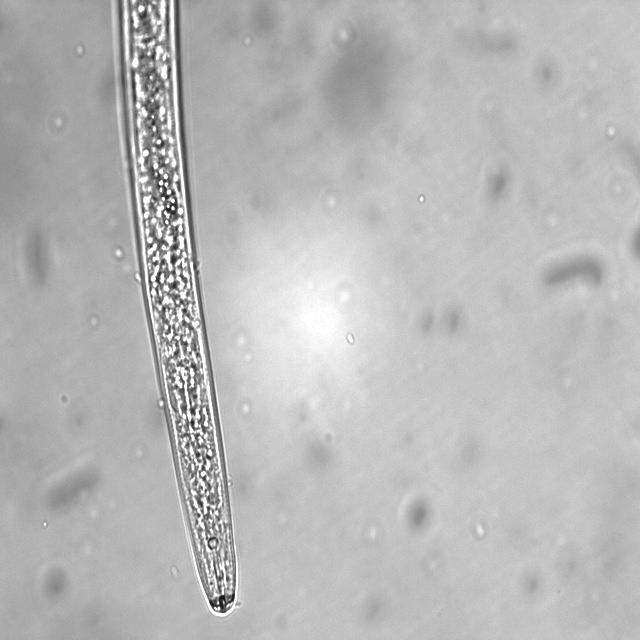Pratylenchus: (109, 0, 245, 623)
